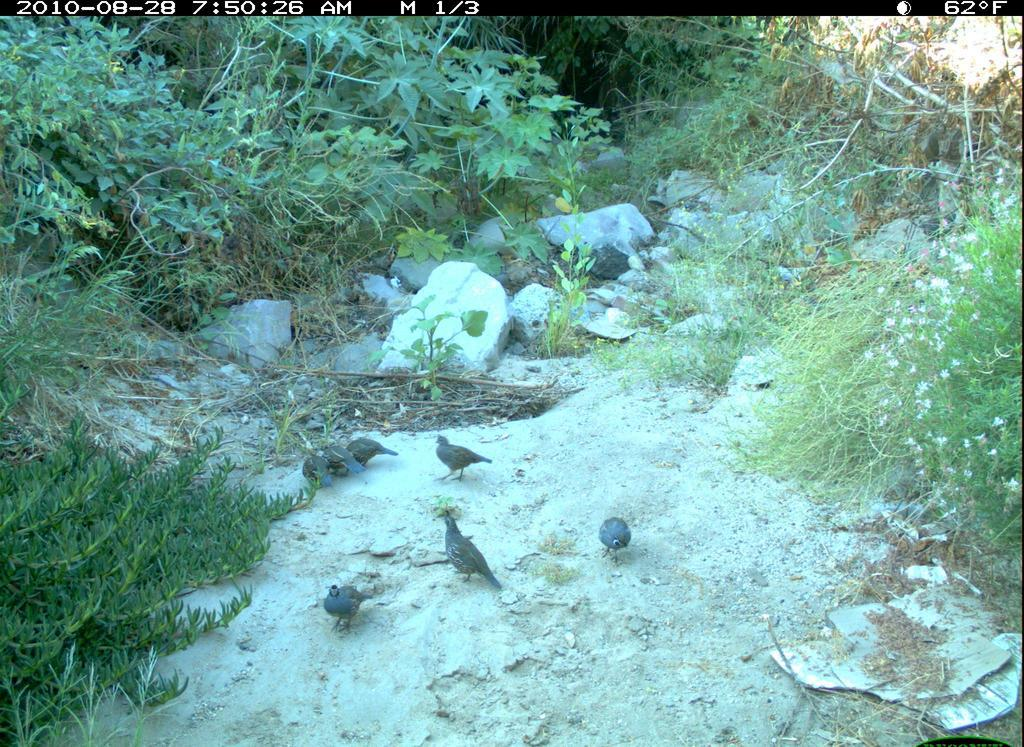bird: (427, 504, 515, 601), (315, 571, 376, 641), (432, 425, 496, 491), (593, 505, 643, 575), (296, 440, 359, 492), (345, 433, 401, 468), (294, 452, 342, 489)
